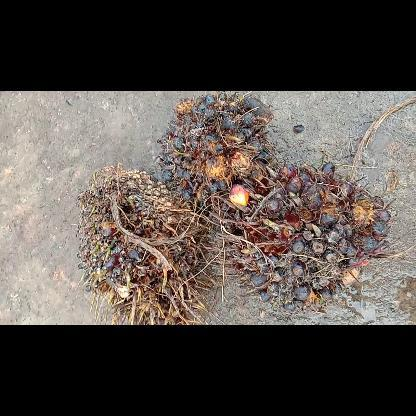TBS abnormal: (209, 163, 390, 313), (78, 164, 216, 324), (158, 90, 272, 206)
